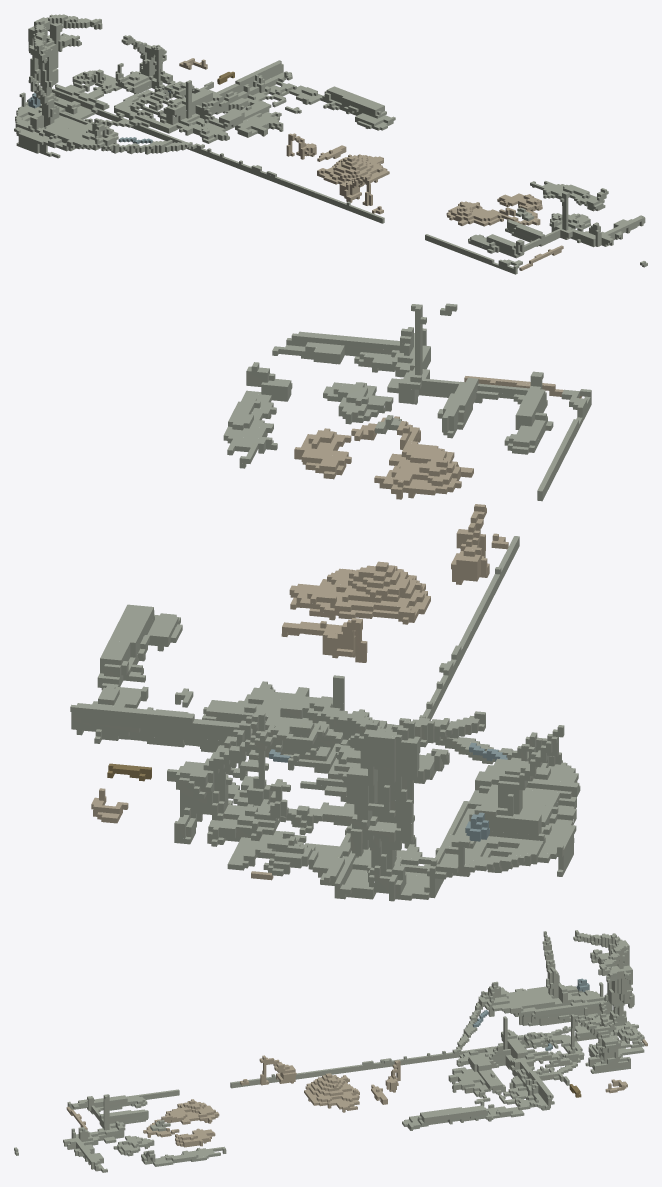
3 views of the same model, one above another, from view 1: azimuth 30°, elevation 25°; view 2: azimuth 150°, elevation 25°; view 3: azimuth 270°, elevation 25° (orthographic). The views are drawn at different scales.
Visible parts, largest first — view 1: measured-industrial; view 2: measured-industrial; view 3: measured-industrial.
Boxes of the visible parts, x1,y1,x2,y2 form: measured-industrial: (14,14,647,274); measured-industrial: (70,303,591,901); measured-industrial: (14,930,647,1172).
Size of the model in its own units: 237 by 52.59 by 350.
